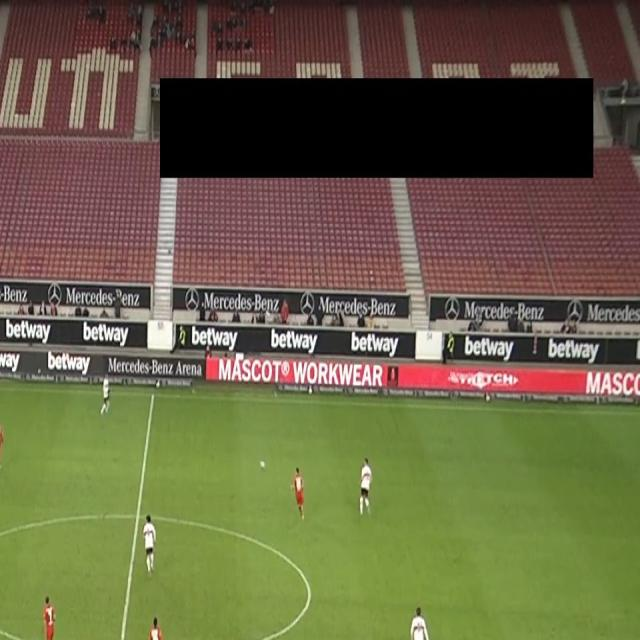ball: (258, 458, 268, 472)
